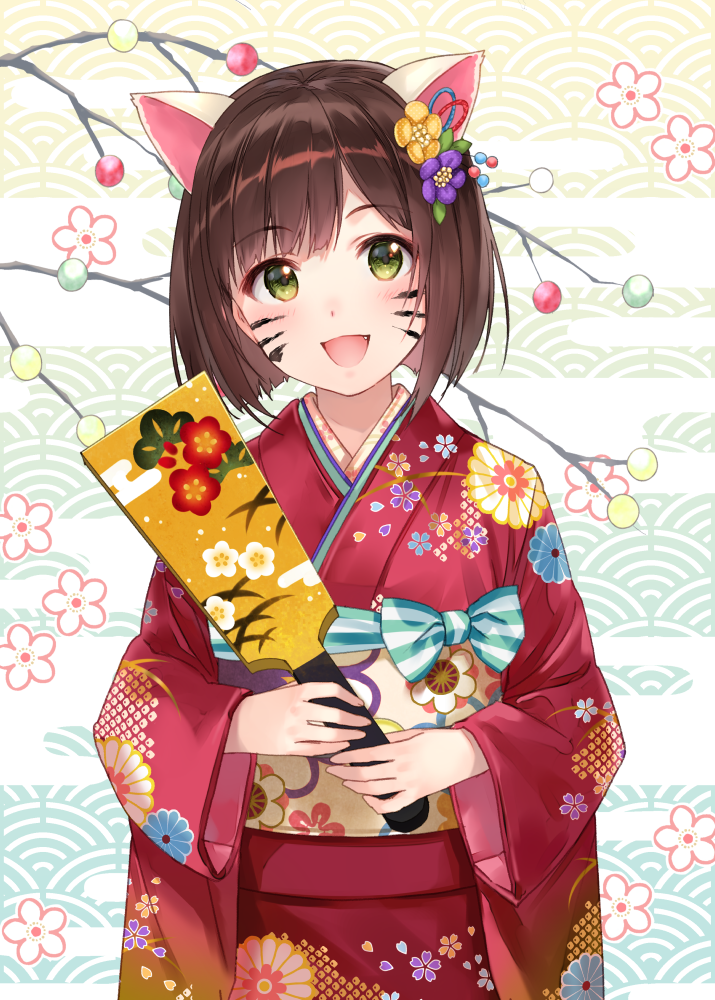纸片人正脸: (160, 65, 485, 419)
